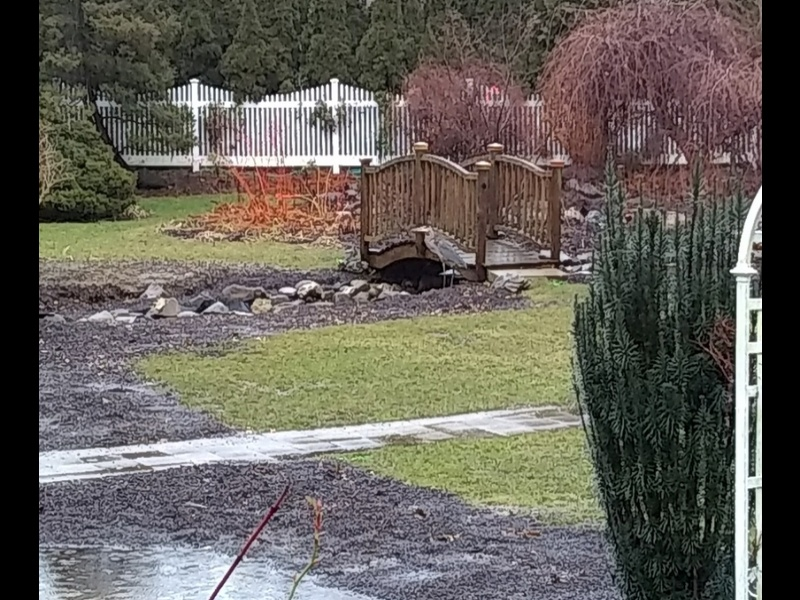heron: (409, 218, 469, 294)
